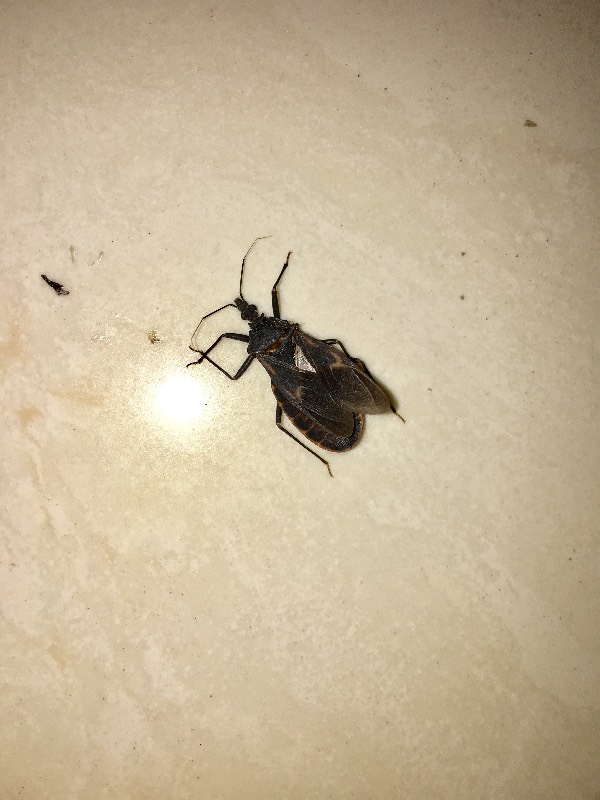chunchong: (192, 267, 404, 469)
